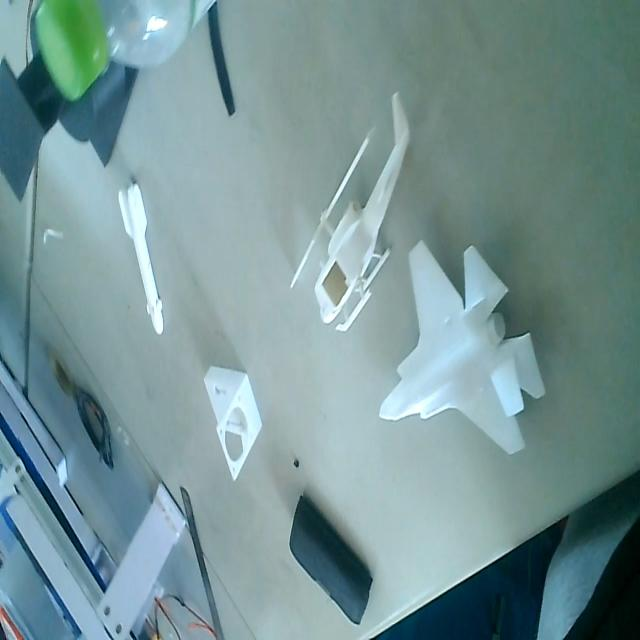Helicopter: (288, 88, 409, 335)
Jet: (379, 238, 543, 470)
Rocket: (116, 177, 166, 341)
